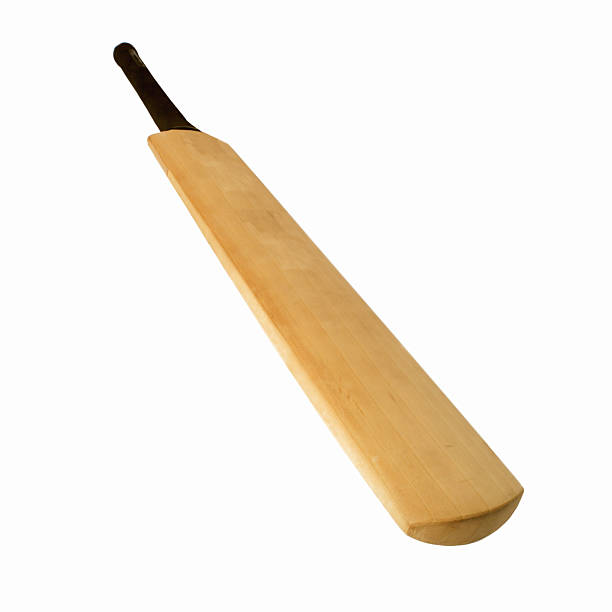bottom left: (376, 505, 430, 559)
bottom right: (499, 469, 555, 525)
top left: (136, 126, 169, 159)
top right: (202, 118, 244, 160)
